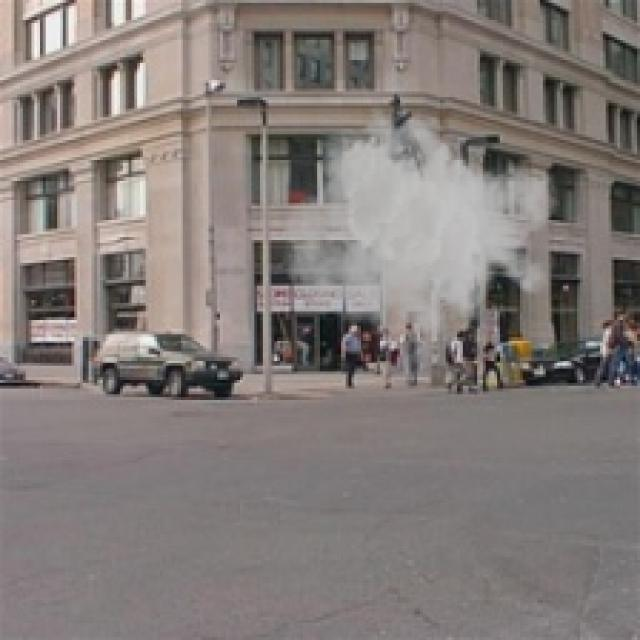smoke: (283, 106, 560, 366)
